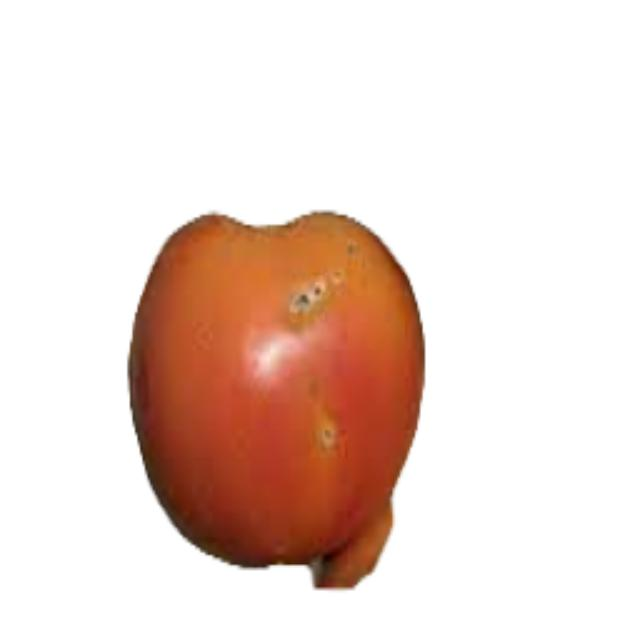defect: (129, 207, 428, 583)
